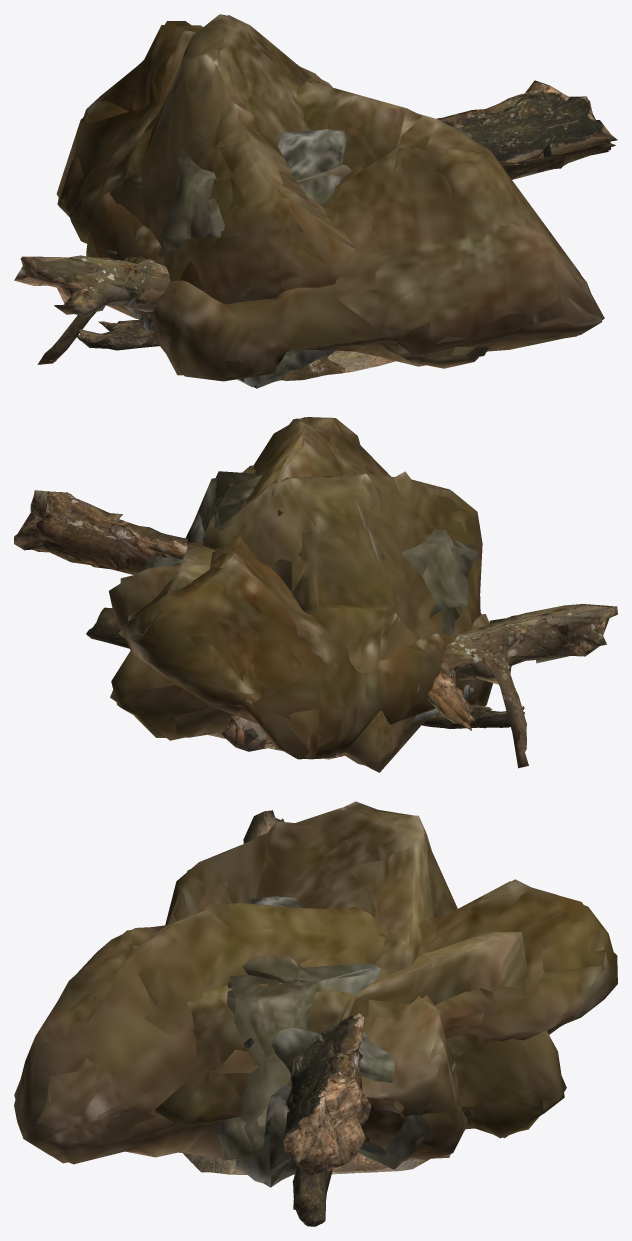
The model's file is nature.glb.
3 renders of one model, top to bottom at view 1: azimuth 30°, elevation 25°; view 2: azimuth 150°, elevation 25°; view 3: azimuth 270°, elevation 25°, orthographic. The views are drawn at different scales.
Parts seen in each view (by area): view 1: rock_big_a, rock_big_a_1, rock_big_b, rock_big_b_1, log_b, log_b_1, rock_d, rock_c_1, rock_c, rock_big_c, rock_d_1, log_a (+5 smaller); view 2: rock_big_a, rock_big_b_1, rock_big_b, rock_big_a_1, log_b, log_b_1, rock_d, rock_big_c_1, rock_big_c, rock_d_1, log_a, boulder (+2 smaller); view 3: rock_big_a, rock_big_a_1, rock_big_b, rock_big_c, rock_big_b_1, rock_big_c_1, log_b, rock_d_1, rock_d, log_b_1, rock_c, rock_b (+5 smaller).
Boxes of the visible parts, left/top/right/bottom form: rock_big_a: left=57, top=25, right=602, bottom=381; rock_big_a_1: left=56, top=21, right=604, bottom=377; rock_big_b: left=86, top=14, right=355, bottom=318; rock_big_b_1: left=110, top=15, right=355, bottom=316; log_b: left=14, top=80, right=617, bottom=364; log_b_1: left=23, top=89, right=610, bottom=361; rock_d: left=158, top=127, right=461, bottom=257; rock_c_1: left=290, top=129, right=347, bottom=206; rock_c: left=278, top=130, right=346, bottom=204; rock_big_c: left=322, top=79, right=478, bottom=368; rock_d_1: left=162, top=130, right=471, bottom=251; log_a: left=76, top=315, right=159, bottom=350; rock_big_a: left=121, top=417, right=492, bottom=759; rock_big_b_1: left=120, top=474, right=480, bottom=772; rock_big_b: left=109, top=471, right=482, bottom=765; rock_big_a_1: left=118, top=417, right=481, bottom=759; log_b: left=14, top=490, right=617, bottom=768; log_b_1: left=15, top=490, right=615, bottom=749; rock_d: left=194, top=474, right=478, bottom=636; rock_big_c_1: left=110, top=470, right=255, bottom=740; rock_big_c: left=111, top=465, right=254, bottom=737; rock_d_1: left=210, top=471, right=474, bottom=624; log_a: left=86, top=607, right=524, bottom=728; boulder: left=219, top=715, right=269, bottom=751; rock_big_a: left=14, top=879, right=617, bottom=1164; rock_big_a_1: left=14, top=881, right=612, bottom=1163; rock_big_b: left=165, top=801, right=467, bottom=1159; rock_big_c: left=154, top=932, right=564, bottom=1144; rock_big_b_1: left=166, top=807, right=464, bottom=1159; rock_big_c_1: left=155, top=932, right=566, bottom=1140; log_b: left=243, top=810, right=371, bottom=1175; rock_d_1: left=221, top=956, right=376, bottom=1160; rock_d: left=217, top=956, right=380, bottom=1158; log_b_1: left=260, top=816, right=363, bottom=1170; rock_c: left=243, top=896, right=453, bottom=1163; rock_b: left=234, top=1085, right=298, bottom=1183.
Bounding box in the file's own units: 4.05 × 1.78 × 3.36.
14 materials, 11 textured.
